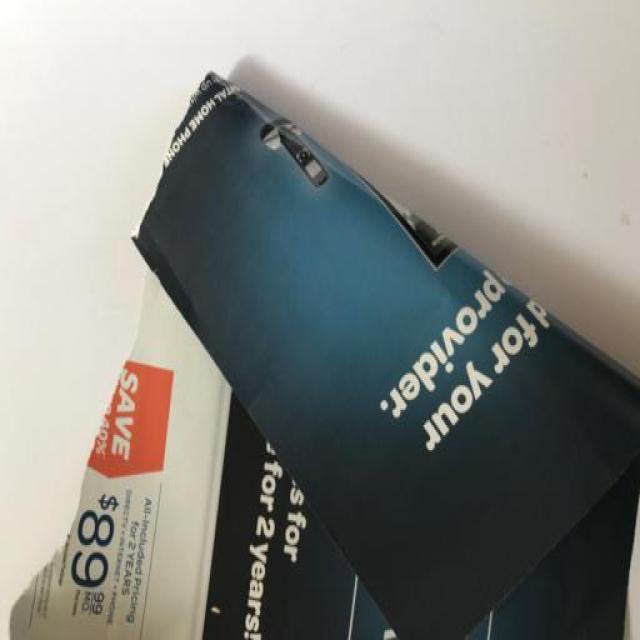paper: (85, 82, 640, 640)
